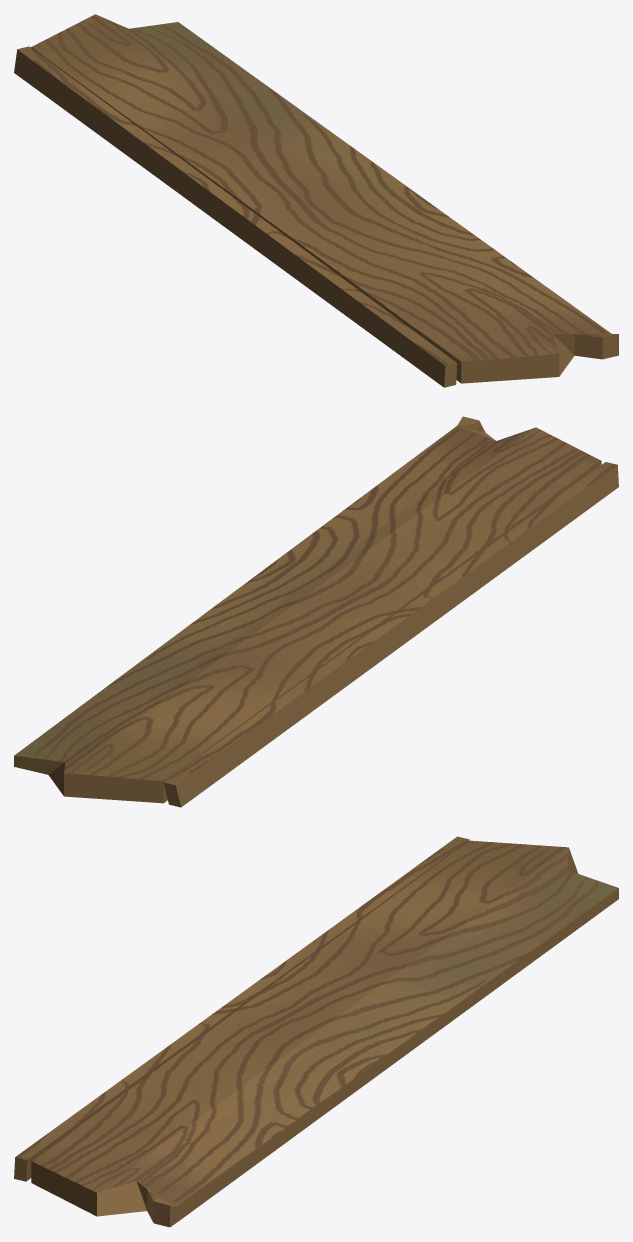
Rendered from large plank.fbx.
The picture shows the model from 3 angles, top to bottom: view 1: azimuth 30°, elevation 25°; view 2: azimuth 150°, elevation 25°; view 3: azimuth 330°, elevation 25°; orthographic projection.
Parts seen in each view (by area): view 1: Cube; view 2: Cube; view 3: Cube.
Boxes of the visible parts, bbox=[...] form: Cube: bbox=[14, 14, 618, 387]; Cube: bbox=[14, 416, 618, 807]; Cube: bbox=[14, 836, 618, 1227].
Size of the model in its own units: 360 by 48.77 by 1761.
Materials: 1 (1 with a texture image).
